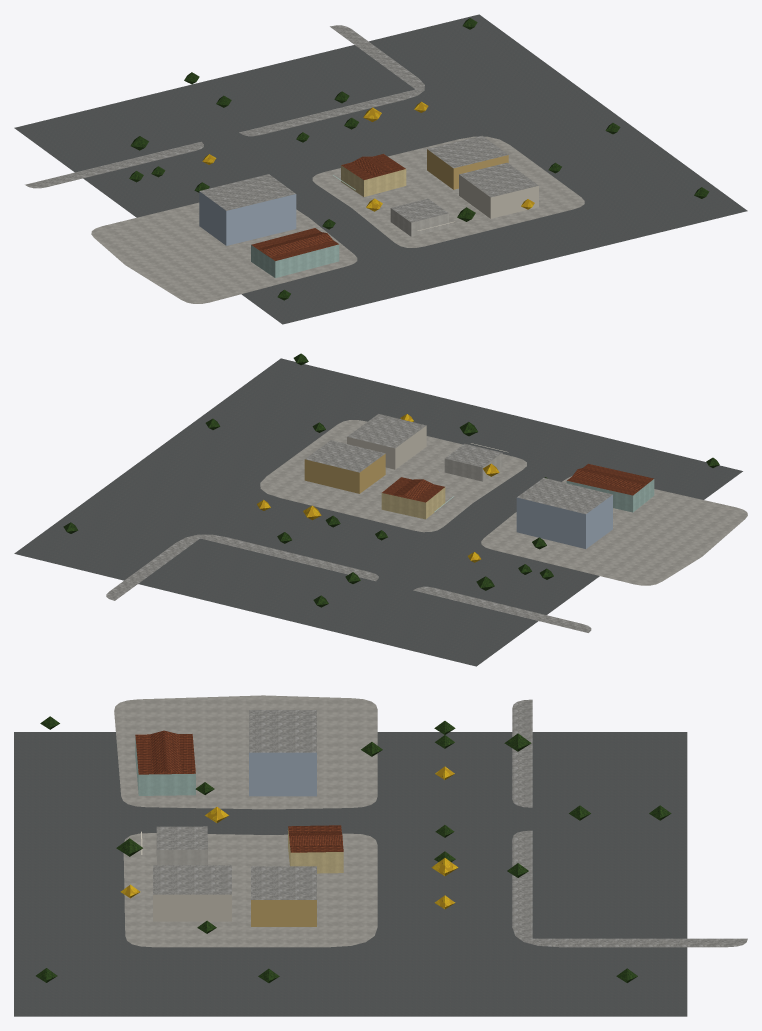
The model's file is cidade_S05_02_lod.gltf.
3 views of the same model, one above another, from view 1: azimuth 30°, elevation 25°; view 2: azimuth 150°, elevation 25°; view 3: azimuth 270°, elevation 25° (orthographic). The views are drawn at different scales.
Visible parts, largest first — view 1: S05_02_Chao_LOD2, S05_02_Edificios_LOD1, S05_02_Silhueta_LOD2, S05_02_Vegetacao_LOD2; view 2: S05_02_Chao_LOD2, S05_02_Edificios_LOD1, S05_02_Silhueta_LOD2, S05_02_Vegetacao_LOD2; view 3: S05_02_Chao_LOD2, S05_02_Edificios_LOD1, S05_02_Vegetacao_LOD2, S05_02_Silhueta_LOD2.
Boxes of the visible parts, x1,y1,x2,y2 form: S05_02_Chao_LOD2: (14,14,747,324); S05_02_Edificios_LOD1: (199,135,538,278); S05_02_Silhueta_LOD2: (251,154,406,277); S05_02_Vegetacao_LOD2: (129,18,709,300); S05_02_Chao_LOD2: (14,358,747,666); S05_02_Edificios_LOD1: (304,414,654,548); S05_02_Silhueta_LOD2: (381,463,654,518); S05_02_Vegetacao_LOD2: (63,353,719,607); S05_02_Chao_LOD2: (14,695,747,1016); S05_02_Edificios_LOD1: (135,710,343,926); S05_02_Vegetacao_LOD2: (36,716,671,982); S05_02_Silhueta_LOD2: (135,734,343,872).
Bounding box in the file's own units: 112 × 7.37 × 109.
Materials: 12 (12 with a texture image).
